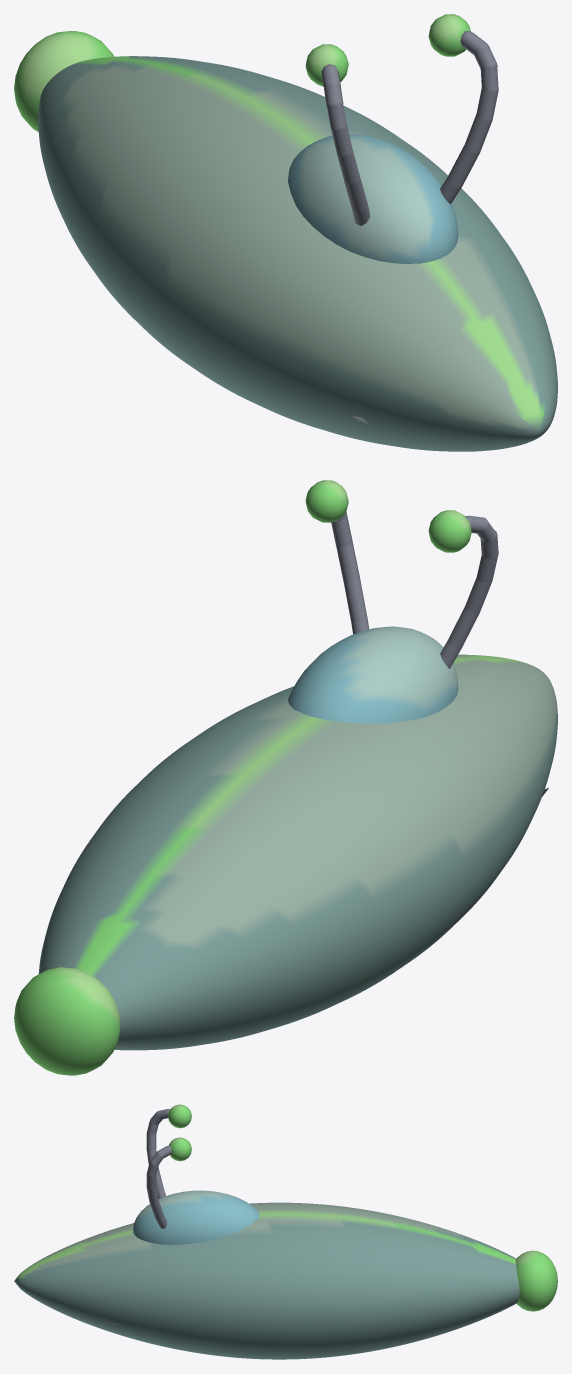
Rendered from seedpod-starfighter-3.obj.
3 renders of one model, top to bottom at view 1: azimuth 30°, elevation 25°; view 2: azimuth 150°, elevation 25°; view 3: azimuth 270°, elevation 25°, orthographic. The views are drawn at different scales.
Parts seen in each view (by area): view 1: starfighter; view 2: starfighter; view 3: starfighter.
Part boxes in pixels (box(x1,y1,x2,y2)): starfighter: box(14, 14, 557, 451); starfighter: box(14, 480, 557, 1075); starfighter: box(14, 1104, 557, 1359).
Size of the model in its own units: 63.96 by 83.4 by 182.
